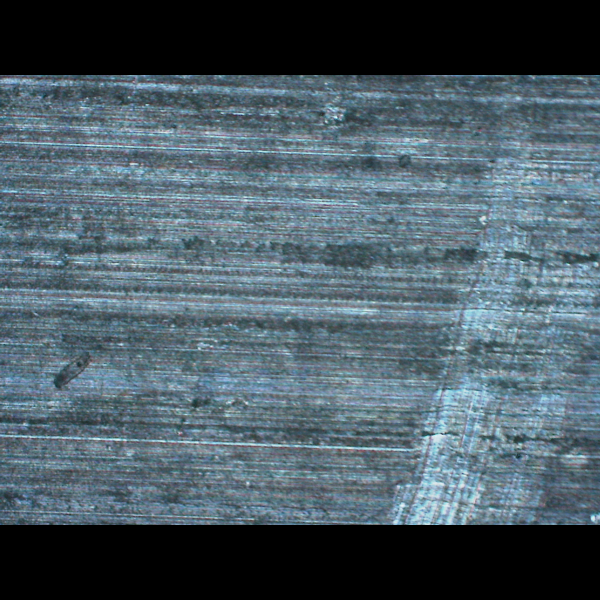d: (385, 125, 599, 521)
